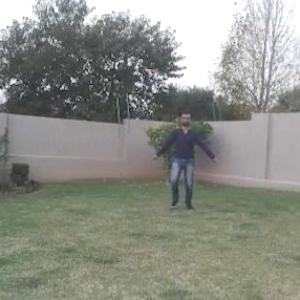land: (145, 96, 223, 222)
